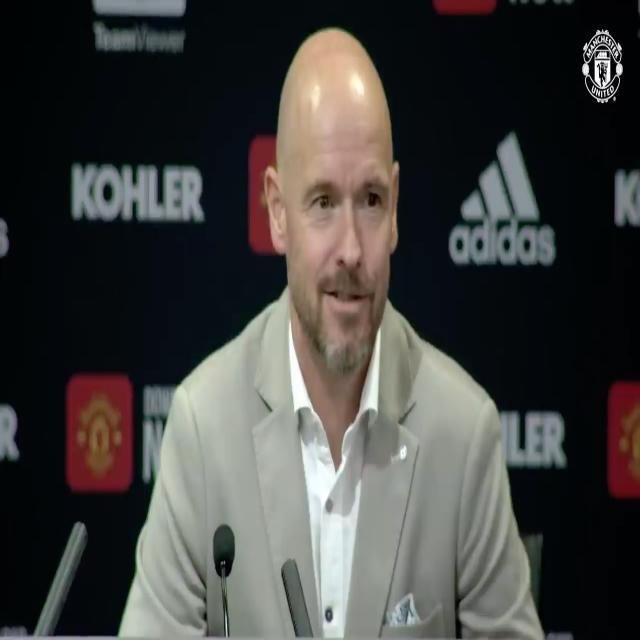Adidas: (447, 128, 556, 268)
Kohler: (70, 163, 204, 224)
TeamViewer: (94, 0, 184, 50)
